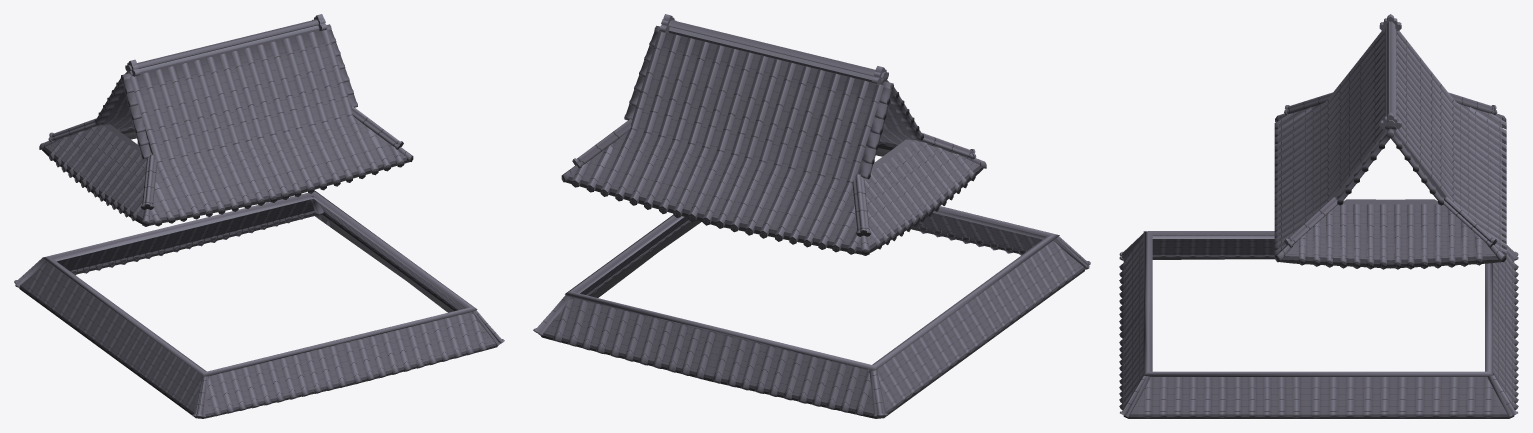
Rendered from SK_Roof_001.FBX.
The picture shows the model from 3 angles, left to right: view 1: azimuth 30°, elevation 25°; view 2: azimuth 150°, elevation 25°; view 3: azimuth 270°, elevation 25°; orthographic projection. The views are drawn at different scales.
Parts seen in each view (by area): view 1: SK_Roof_001; view 2: SK_Roof_001; view 3: SK_Roof_001.
Part boxes in pixels (bbox=[...]): SK_Roof_001: bbox=[14, 14, 504, 418]; SK_Roof_001: bbox=[533, 14, 1090, 418]; SK_Roof_001: bbox=[1119, 14, 1518, 418].
Size of the model in its own units: 831 by 660 by 858.
1 material, 1 textured.
